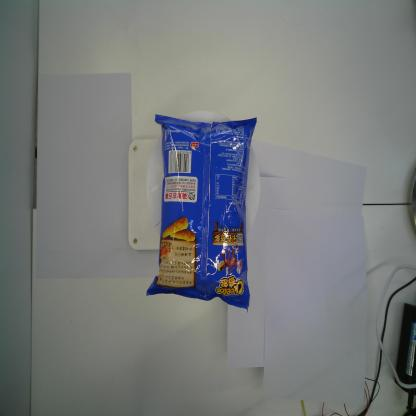Puffed Food: (144, 113, 258, 316)
